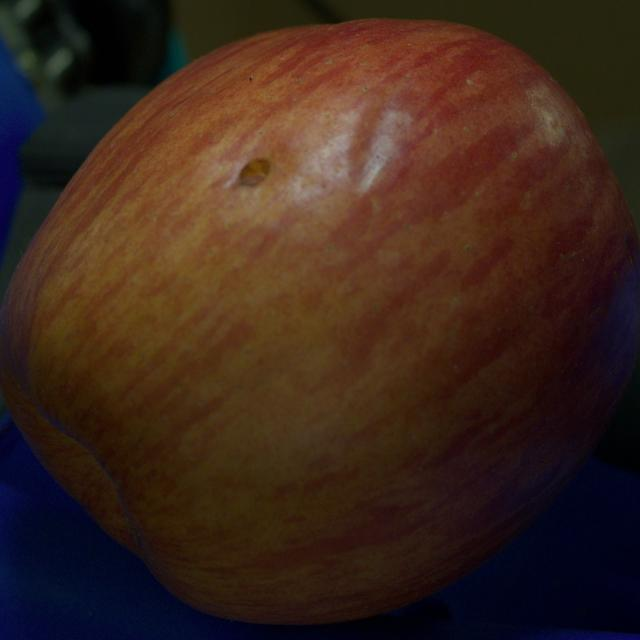apple: (0, 20, 639, 624)
pest: (239, 159, 271, 186)
